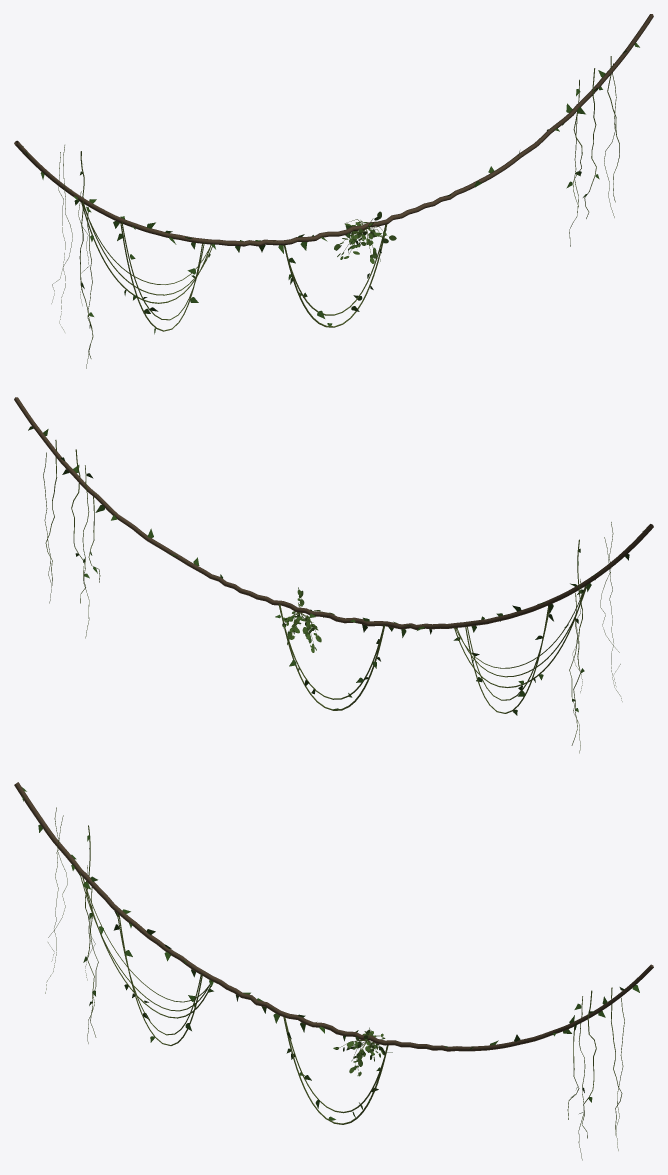
The model's file is liana_span_leafy_04_lod1.gltf.
3 renders of one model, top to bottom at view 1: azimuth 30°, elevation 25°; view 2: azimuth 150°, elevation 25°; view 3: azimuth 330°, elevation 25°, orthographic.
Visible parts, largest first — view 1: liana_span_leafy_04; view 2: liana_span_leafy_04; view 3: liana_span_leafy_04.
Part boxes in pixels (x1=…): liana_span_leafy_04: x1=14, y1=14, x2=653, y2=368; liana_span_leafy_04: x1=14, y1=397, x2=653, y2=753; liana_span_leafy_04: x1=14, y1=782, x2=653, y2=1160.
Size of the model in its own units: 12.06 by 4.76 by 0.9486.
Materials: 3 (3 with a texture image).
